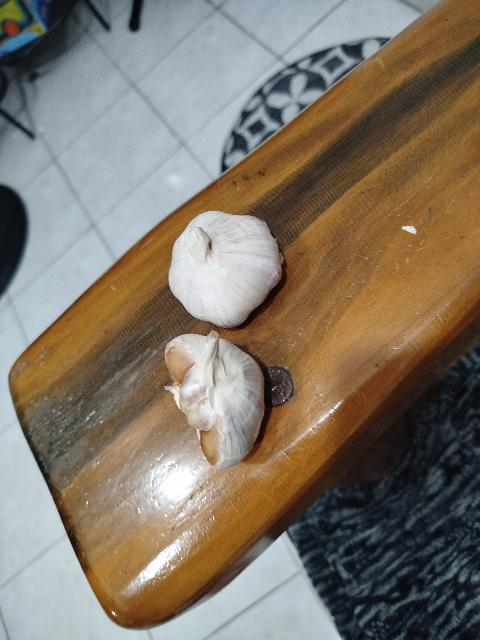garlic: (163, 329, 265, 468), (168, 210, 284, 328)
